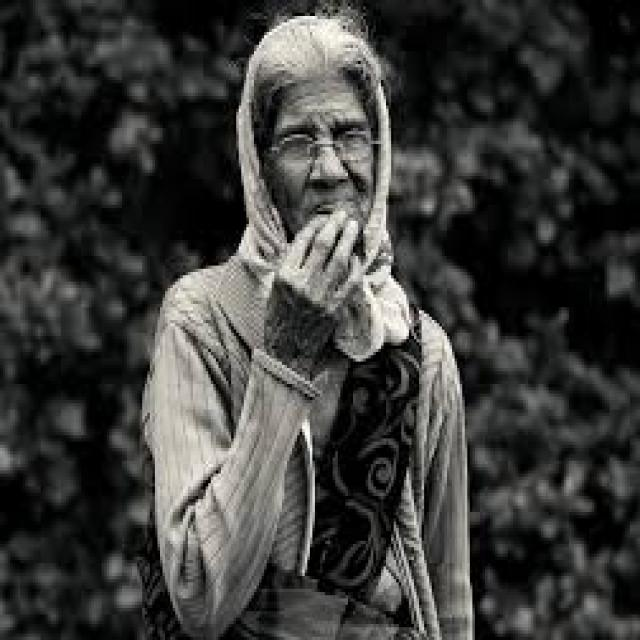Edited images: (135, 4, 492, 640)
